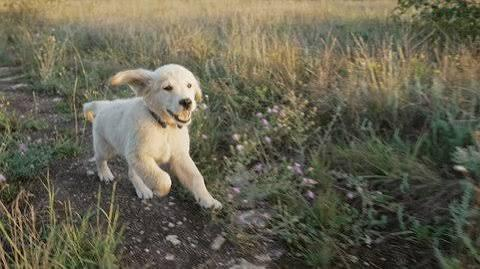puppy-dog: (78, 62, 228, 216)
